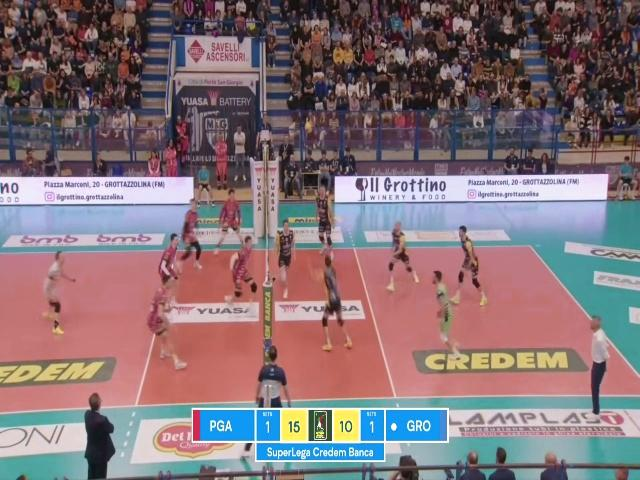volleyball court: (0, 245, 640, 414)
